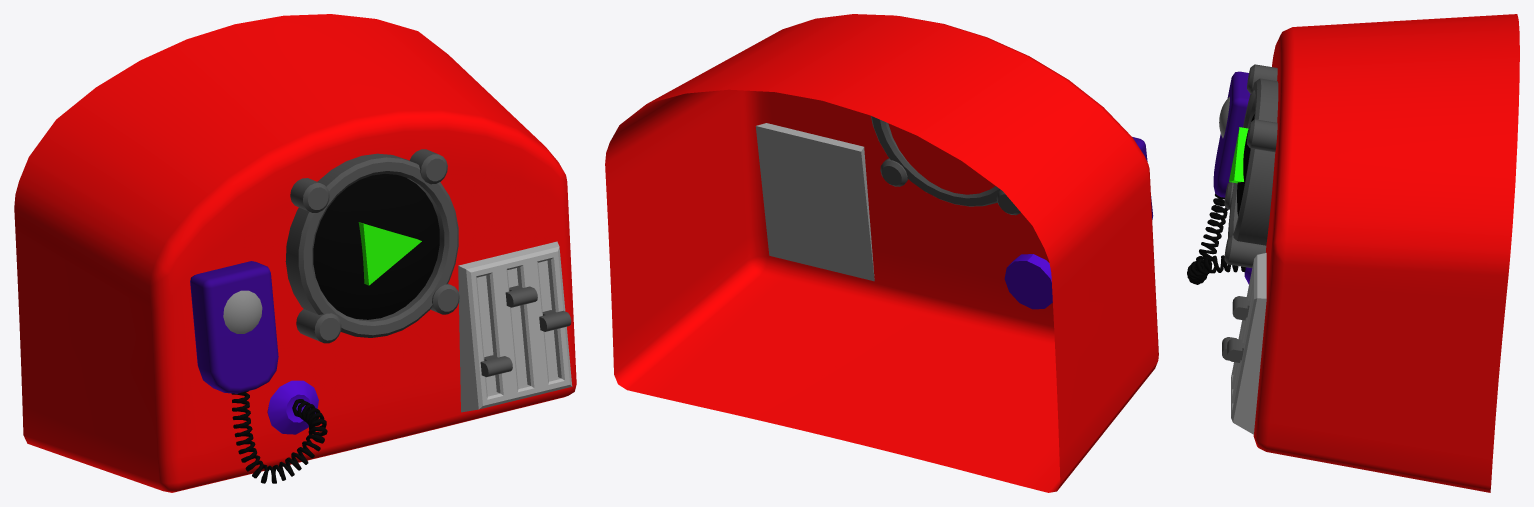
The model's file is FlightFighterTitle 1.fbx.
3 renders of one model, left to right at view 1: azimuth 30°, elevation 25°; view 2: azimuth 150°, elevation 25°; view 3: azimuth 270°, elevation 25°, orthographic. The views are drawn at different scales.
Visible parts, largest first — view 1: Cylinder, Cube, Sphere, Cylinder.001, Cube.004, Cylinder.002, Cube.005, Cube.006, Cylinder.003, Sphere.001; view 2: Cylinder, Cube, Cylinder.003, Cylinder.001, Cylinder.002; view 3: Cylinder, Cylinder.001, Cube, Cylinder.002, Cube.004, Cube.005, Cube.006, Sphere, Cube.002, Cube.001.
Boxes of the visible parts, x1,y1,x2,y2 form: Cylinder: (14, 14, 576, 492); Cube: (458, 241, 572, 412); Sphere: (313, 174, 439, 319); Cylinder.001: (285, 153, 458, 337); Cube.004: (190, 261, 278, 393); Cylinder.002: (290, 149, 459, 343); Cube.005: (231, 390, 327, 483); Cube.006: (358, 222, 421, 285); Cylinder.003: (267, 380, 318, 434); Sphere.001: (223, 290, 262, 333); Cylinder: (605, 14, 1158, 492); Cube: (755, 123, 874, 281); Cylinder.003: (1004, 254, 1052, 309); Cylinder.001: (871, 116, 1000, 206); Cylinder.002: (880, 158, 1020, 215); Cylinder: (1253, 14, 1519, 492); Cylinder.001: (1228, 78, 1278, 245); Cube: (1231, 253, 1266, 434); Cylinder.002: (1224, 64, 1277, 267); Cube.004: (1213, 71, 1250, 197); Cube.005: (1187, 193, 1245, 284); Cube.006: (1229, 127, 1248, 183); Sphere: (1237, 114, 1254, 216); Cube.002: (1232, 296, 1250, 320); Cube.001: (1227, 338, 1244, 362).
Bounding box in the file's own units: 616 × 465 × 412.
